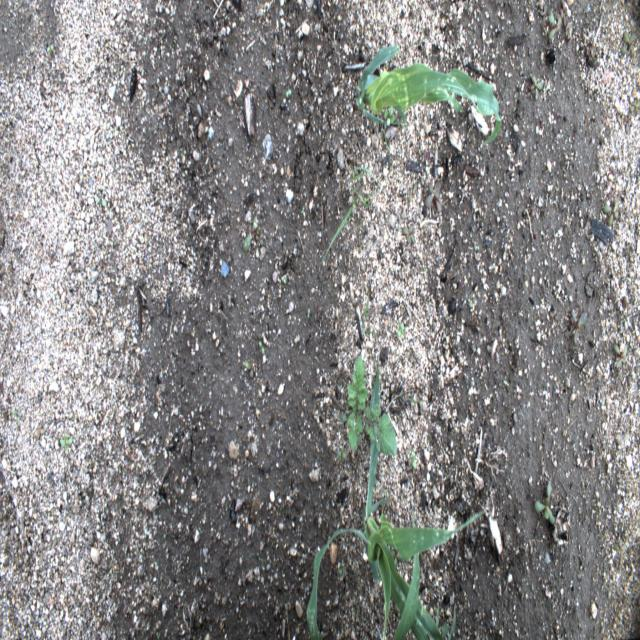crop: (306, 368, 456, 639), (355, 45, 501, 143)
weed: (338, 353, 398, 456), (322, 165, 381, 263), (533, 486, 557, 527), (241, 214, 263, 256), (361, 290, 378, 342), (424, 180, 442, 214), (572, 309, 588, 345), (547, 8, 563, 43), (602, 198, 619, 227), (621, 30, 636, 60), (530, 74, 544, 101), (614, 342, 628, 368), (382, 129, 391, 168), (59, 431, 74, 453), (402, 224, 416, 245), (613, 540, 626, 558), (410, 448, 418, 471), (408, 183, 417, 203), (623, 112, 632, 132), (629, 98, 640, 113), (337, 447, 347, 463), (396, 322, 406, 338), (548, 309, 558, 325), (338, 559, 346, 578), (12, 408, 22, 422), (244, 360, 252, 373), (258, 340, 264, 356), (47, 44, 55, 53), (286, 86, 292, 98)
